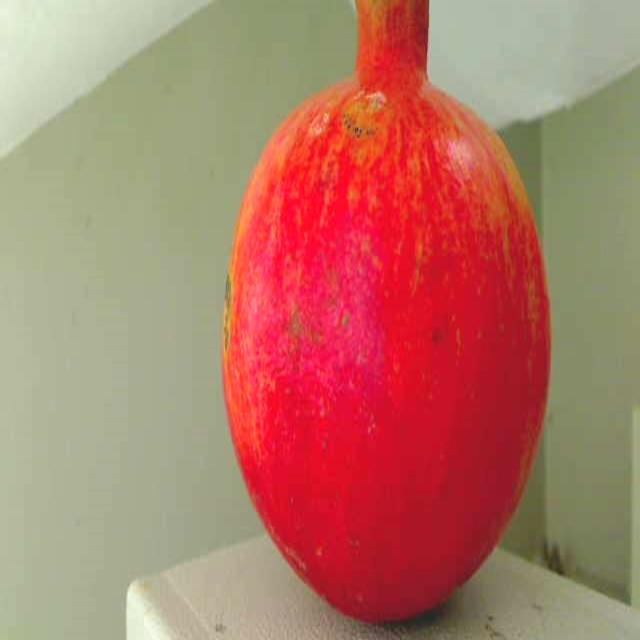pomegranate: (212, 0, 555, 640)
